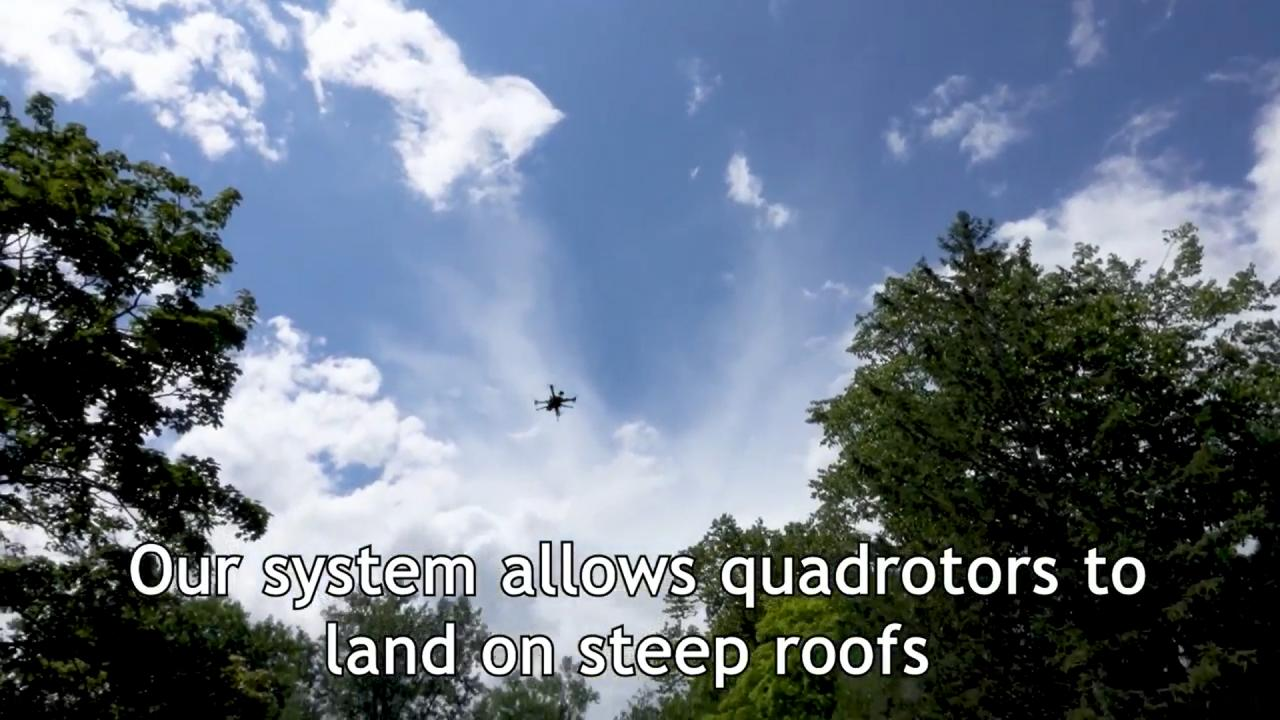Drone: (525, 375, 585, 428)
